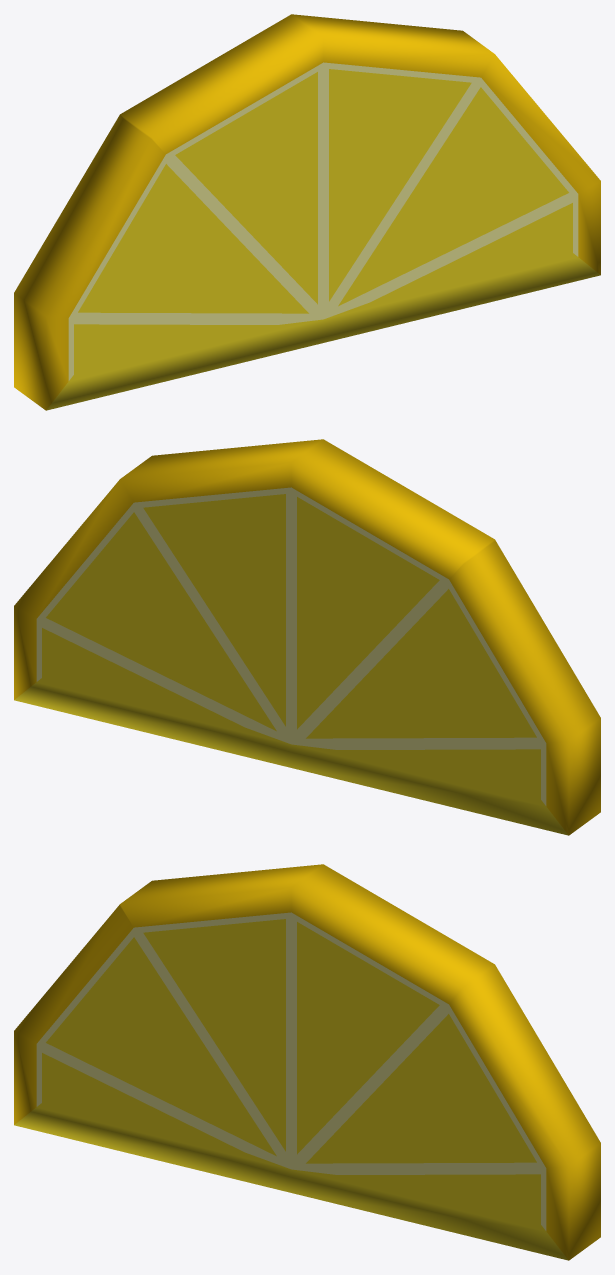
The model's file is lemon_slice.fbx.
The picture shows the model from 3 angles, top to bottom: view 1: azimuth 30°, elevation 25°; view 2: azimuth 150°, elevation 25°; view 3: azimuth 330°, elevation 25°; orthographic projection.
Parts seen in each view (by area): view 1: Circle; view 2: Circle; view 3: Circle.
Part boxes in pixels (box(x1,y1,x2,y2)): Circle: box(14, 14, 600, 410); Circle: box(14, 439, 600, 835); Circle: box(14, 864, 600, 1260).
Size of the model in its own units: 10 by 5.26 by 1.
